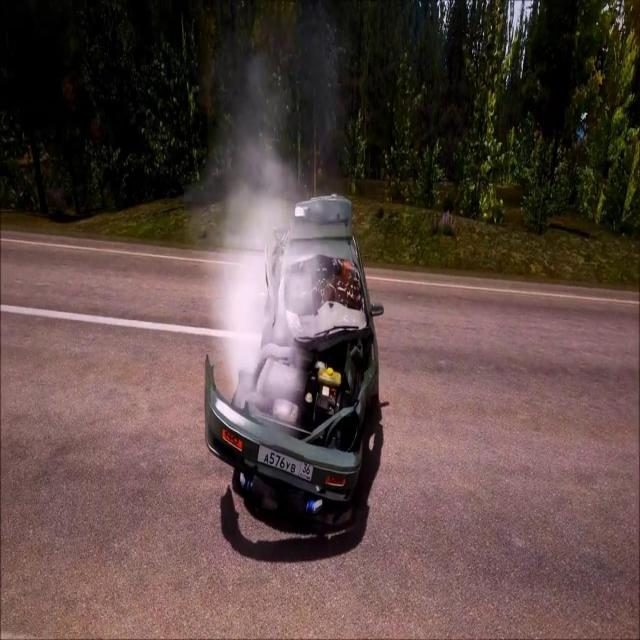accident: (200, 187, 386, 528)
